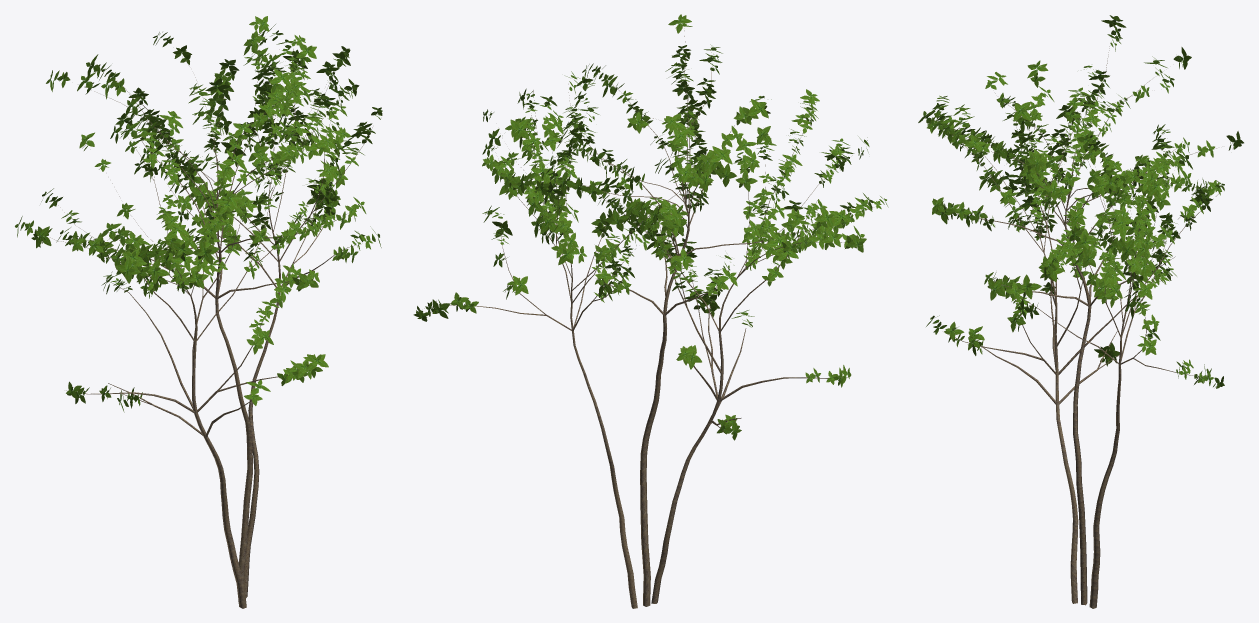
Rendered from natsuhaze_nocolor.fbx.
3 renders of one model, left to right at view 1: azimuth 30°, elevation 25°; view 2: azimuth 150°, elevation 25°; view 3: azimuth 270°, elevation 25°, orthographic. The views are drawn at different scales.
Visible parts, largest first — view 1: Tree.004, Tree.003, Tree.005; view 2: Tree.003, Tree.004, Tree.005; view 3: Tree.004, Tree.003, Tree.005.
Boxes of the visible parts, x1=… form: Tree.004: x1=50, y1=146, x2=314, y2=608; Tree.003: x1=84, y1=59, x2=347, y2=601; Tree.005: x1=156, y1=43, x2=372, y2=597; Tree.003: x1=556, y1=30, x2=814, y2=606; Tree.004: x1=598, y1=118, x2=868, y2=603; Tree.005: x1=424, y1=90, x2=688, y2=608; Tree.004: x1=948, y1=107, x2=1172, y2=603; Tree.003: x1=953, y1=46, x2=1216, y2=605; Tree.005: x1=1020, y1=156, x2=1218, y2=608.
Size of the model in its own units: 222 by 307 by 169.
Materials: 2 (2 with a texture image).
